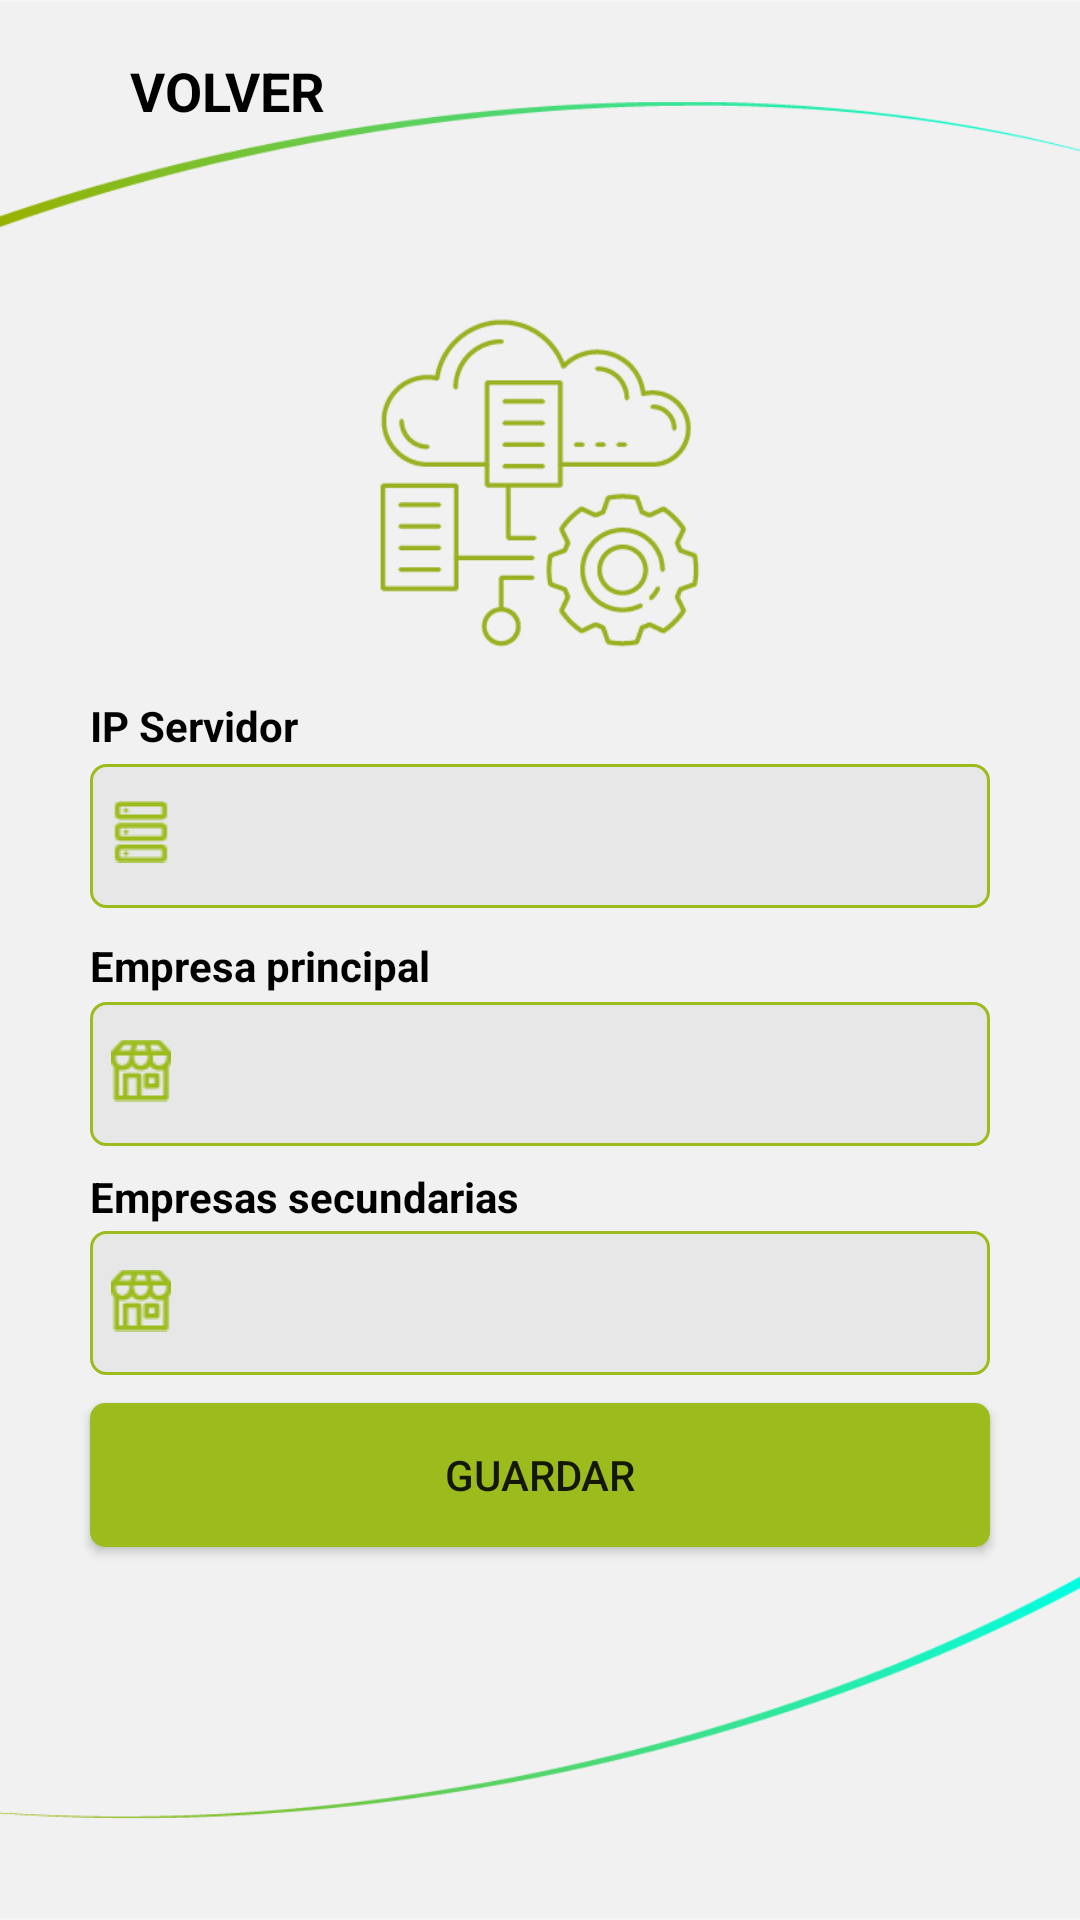

Where icons sit on this 1080*1920 app screen, as (x1, y1, x2, y2):
server: (380, 319, 699, 647), (114, 801, 168, 863)
tienda: (111, 1040, 171, 1102), (111, 1270, 171, 1332)
